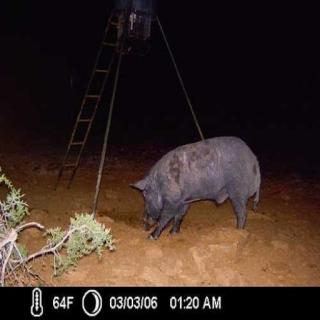Pig: (133, 123, 288, 243)
